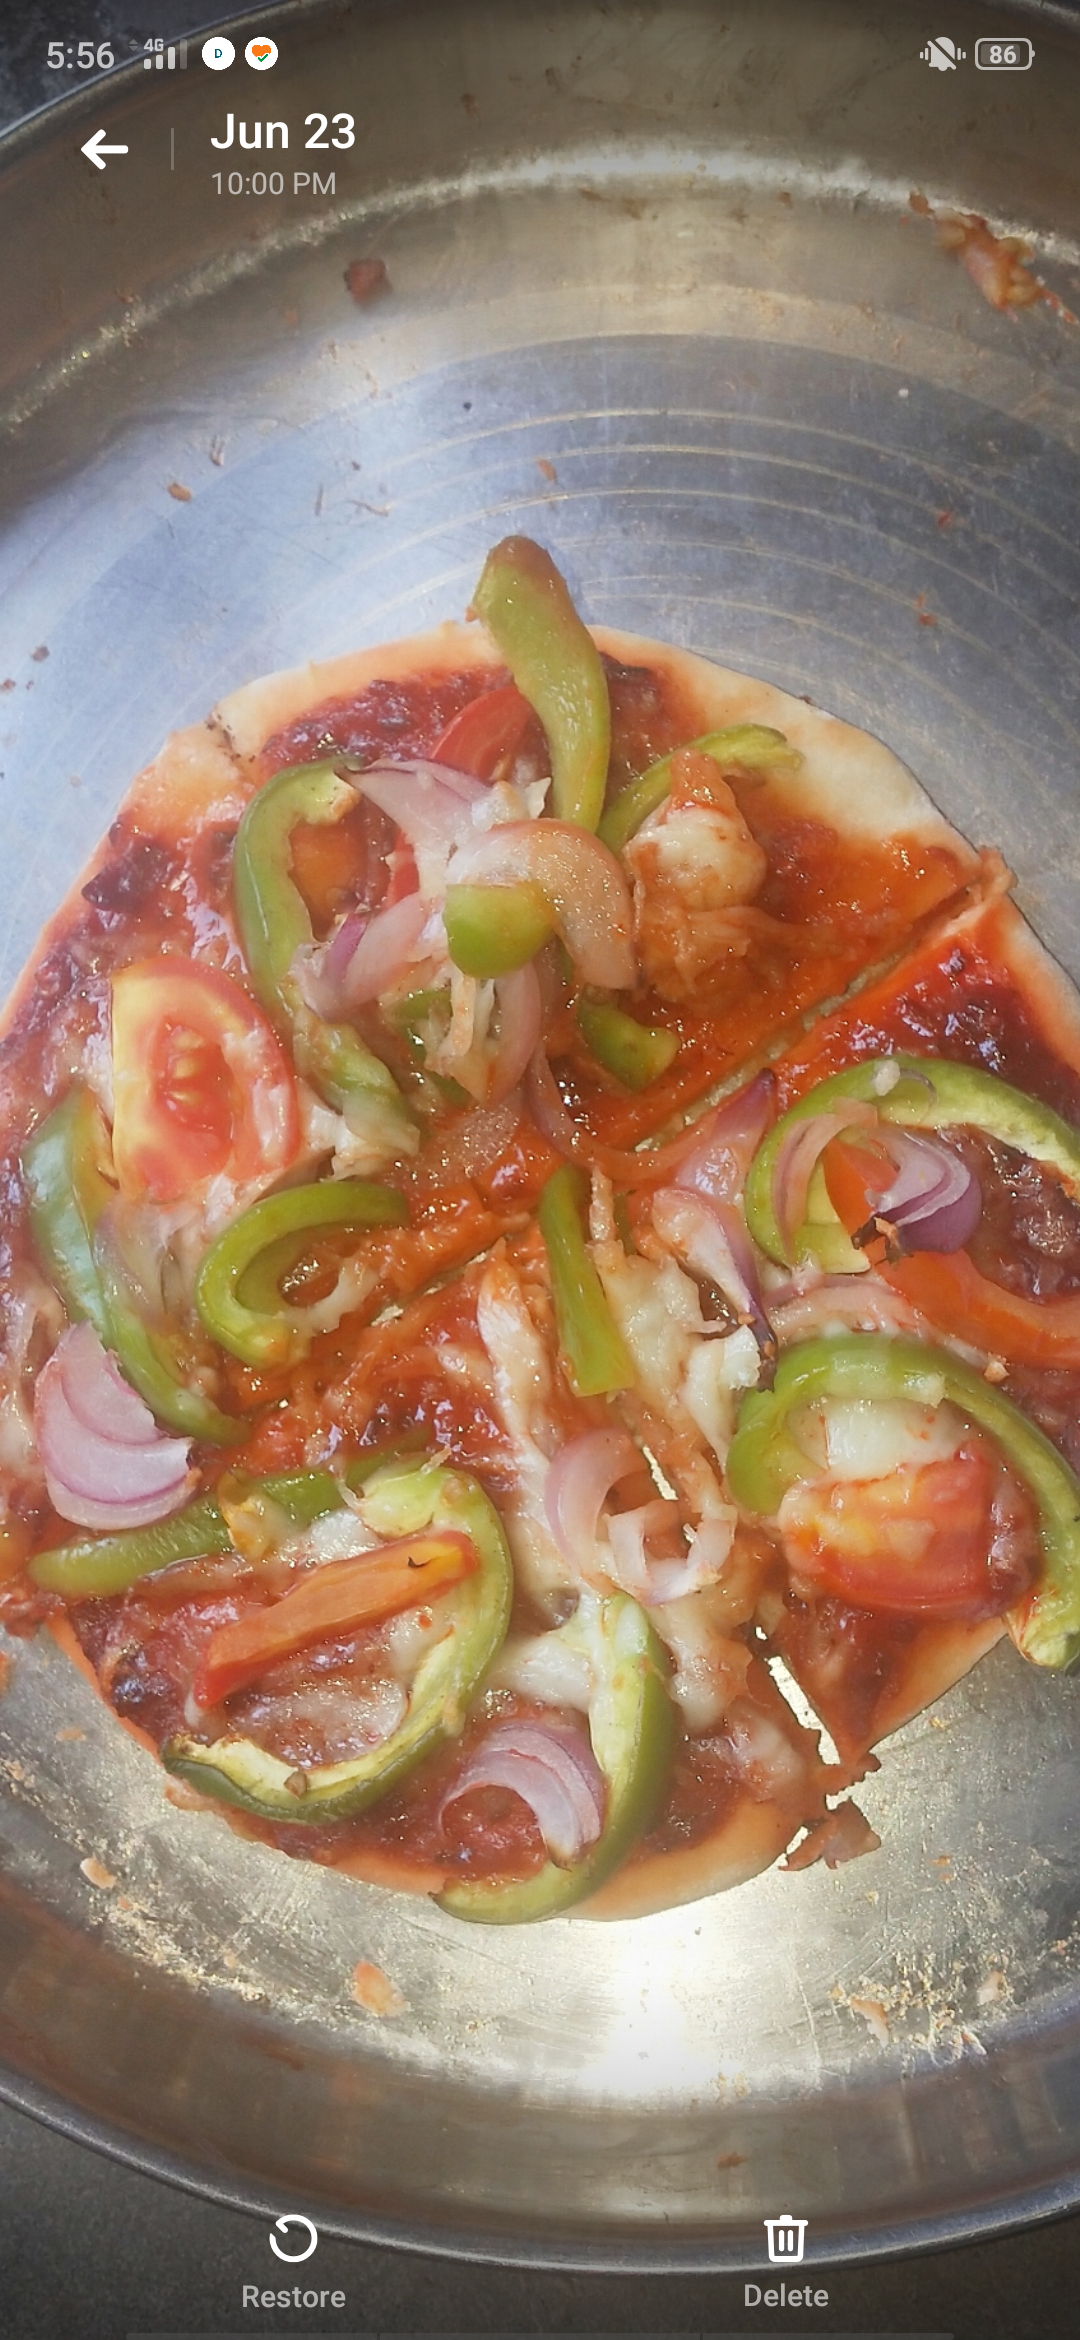food: (0, 519, 1079, 1934)
